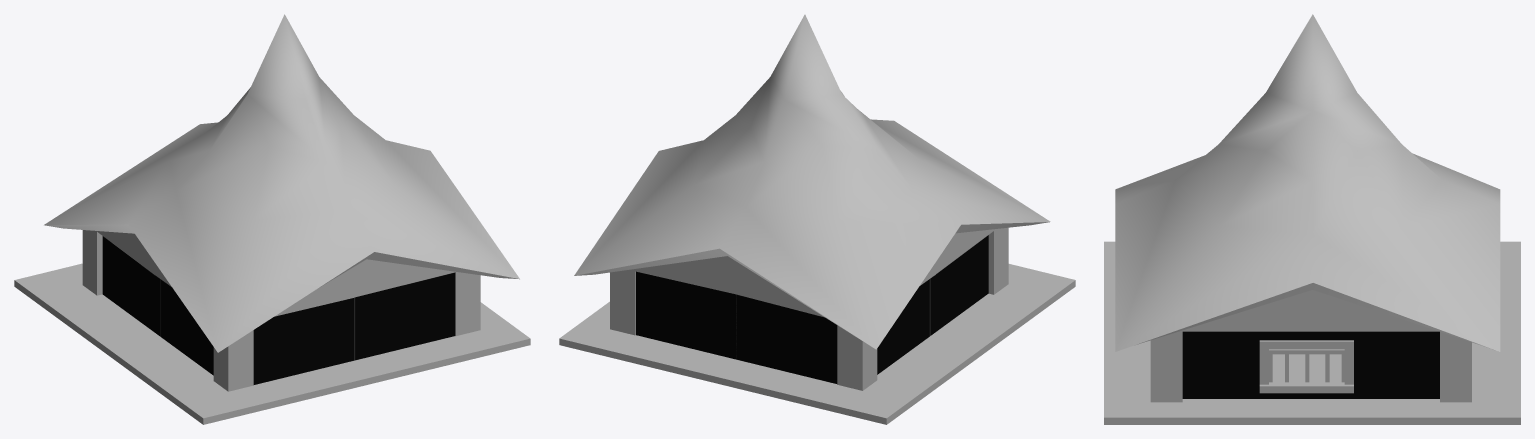
File: OldTowerFloor1.fbx
3 views of the same model, side by side, from view 1: azimuth 30°, elevation 25°; view 2: azimuth 150°, elevation 25°; view 3: azimuth 270°, elevation 25° (orthographic). The views are drawn at different scales.
Parts seen in each view (by area): view 1: Roof, Floor, Posts, Wall1, Wall, Wall5, Wall4; view 2: Roof, Floor, Posts, Wall3, Wall2, Wall4, Wall5; view 3: Roof, Floor, Wall6, Posts, Window.
Boxes of the visible parts, left/top/right/bottom form: Roof: left=44, top=14, right=519, bottom=352; Floor: left=14, top=263, right=530, bottom=424; Posts: left=82, top=230, right=480, bottom=391; Wall1: left=354, top=272, right=455, bottom=360; Wall: left=253, top=297, right=354, bottom=384; Wall5: left=102, top=236, right=160, bottom=336; Wall4: left=161, top=279, right=213, bottom=375; Roof: left=574, top=14, right=1050, bottom=349; Floor: left=559, top=264, right=1075, bottom=424; Posts: left=610, top=227, right=1008, bottom=390; Wall3: left=736, top=294, right=837, bottom=383; Wall2: left=636, top=271, right=736, bottom=359; Wall4: left=930, top=235, right=988, bottom=335; Wall5: left=877, top=279, right=930, bottom=374; Roof: left=1115, top=14, right=1500, bottom=351; Floor: left=1104, top=241, right=1520, bottom=424; Wall6: left=1182, top=331, right=1439, bottom=398; Posts: left=1150, top=290, right=1471, bottom=402; Window: left=1259, top=340, right=1353, bottom=393.
Size of the model in its own units: 731 by 642 by 731.
